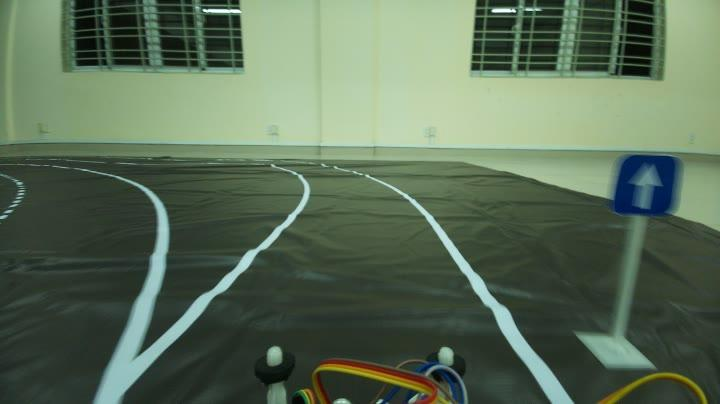onewayroad: (612, 150, 686, 222)
